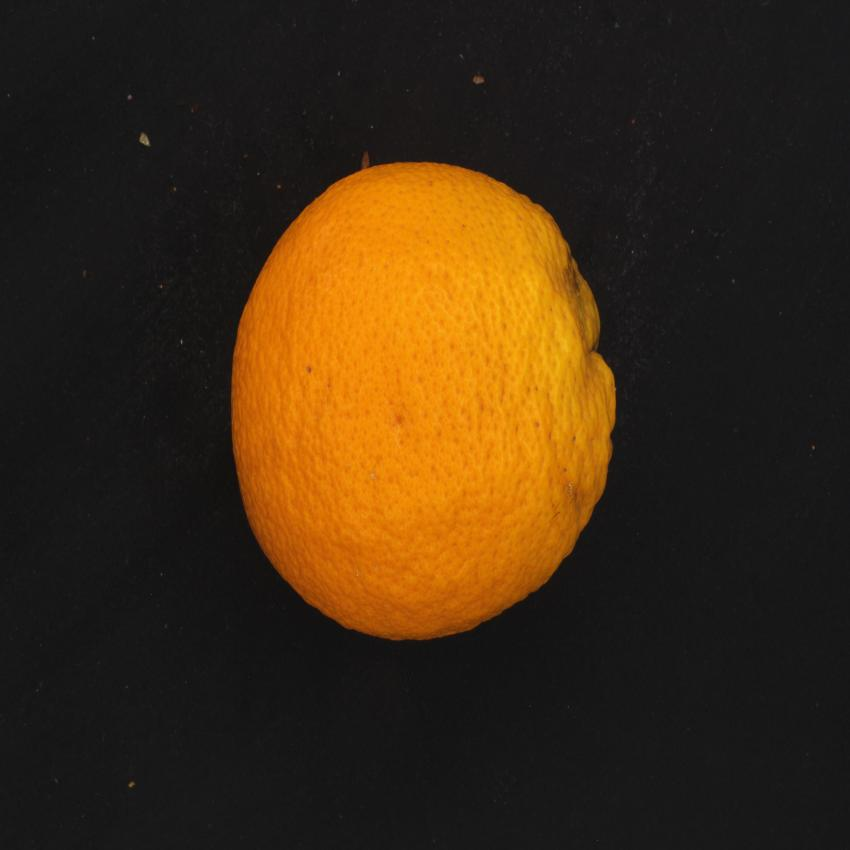Buen estado: (224, 152, 623, 653)
